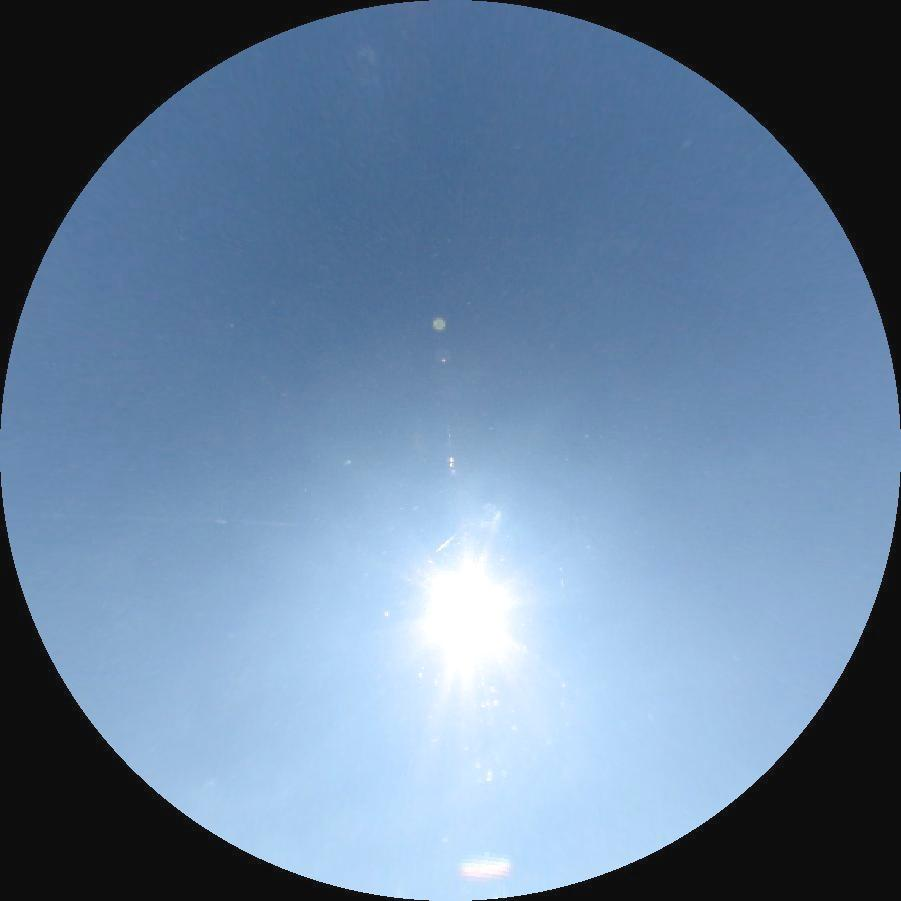contrail young: (434, 530, 461, 555)
sun: (399, 543, 532, 682)
